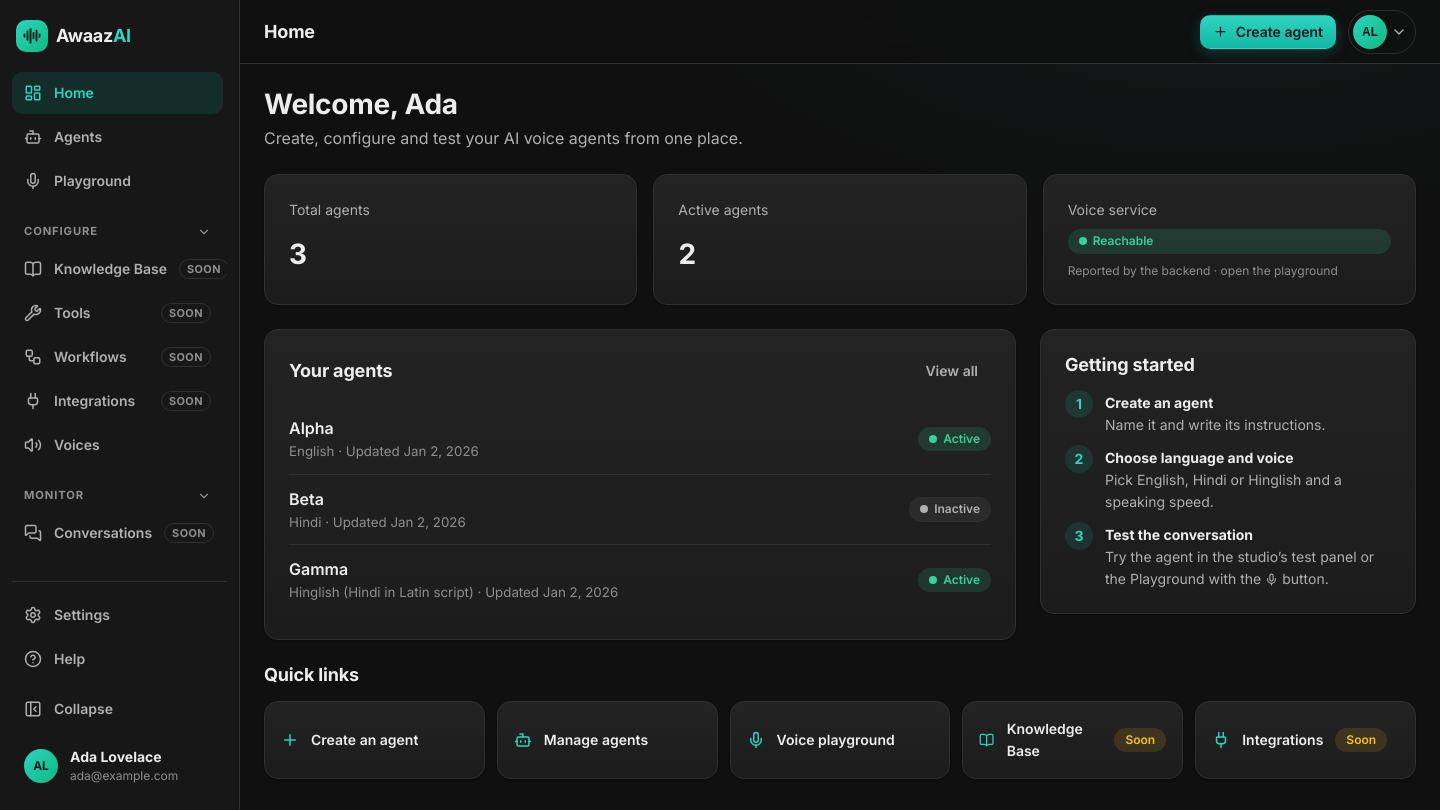
Test: application shell › groups the sidebar into Main, Configure, Monitor and Deploy and the groups expand and collapse
This screenshot has width=1440, height=810.
Expected: the button "Monitor" is shown, x1=12 y1=482 x2=223 y2=510
Expected: the link "Tools Soon" is shown, x1=24 y1=303 x2=211 y2=323
Click the button "Configure". click: (117,232)
box: x1=12 y1=218 x2=223 y2=246
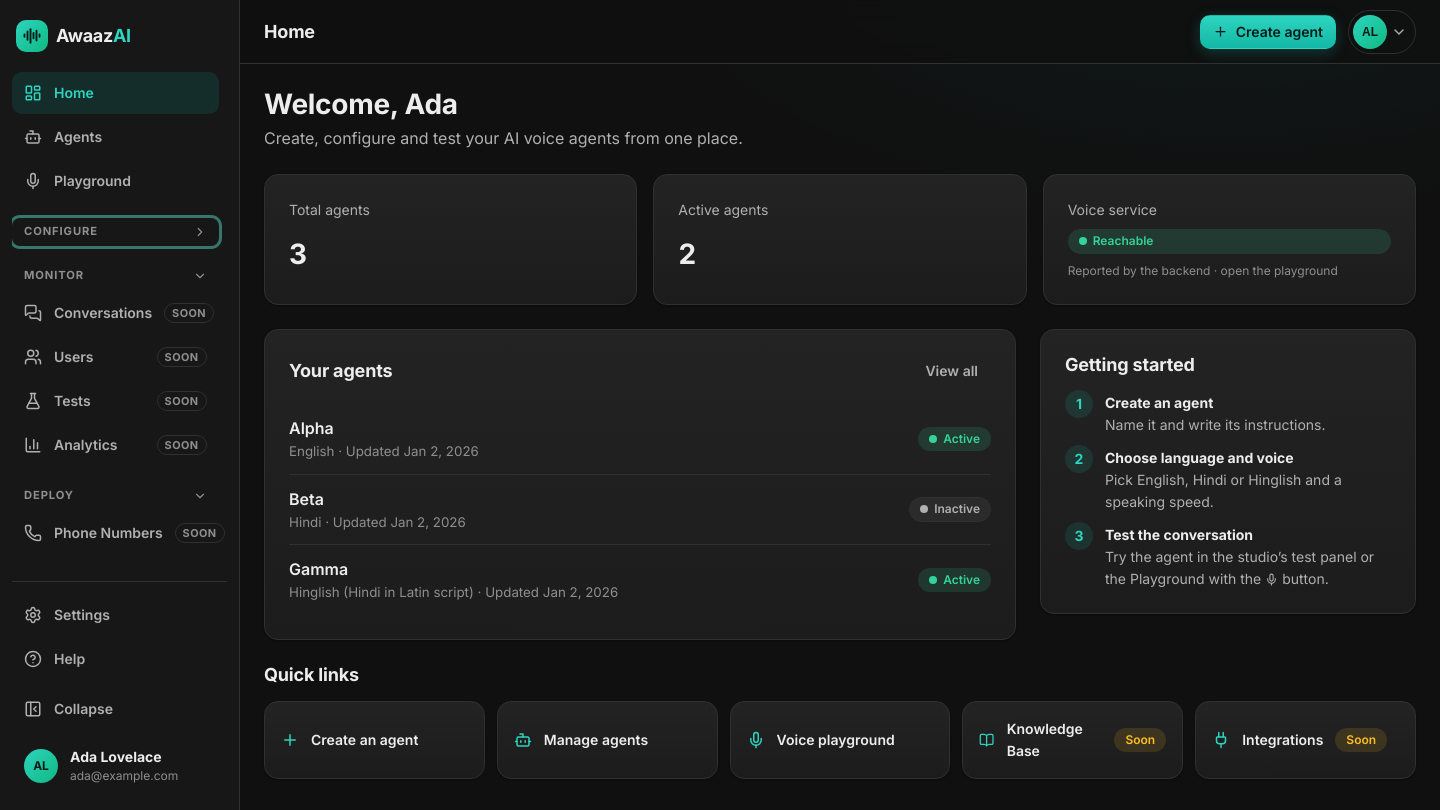
Expected: the button "Configure" is collapsed
Expected: the link "Tools" is gone
Click the button "Configure". click: (115,232)
box: x1=12 y1=218 x2=218 y2=246
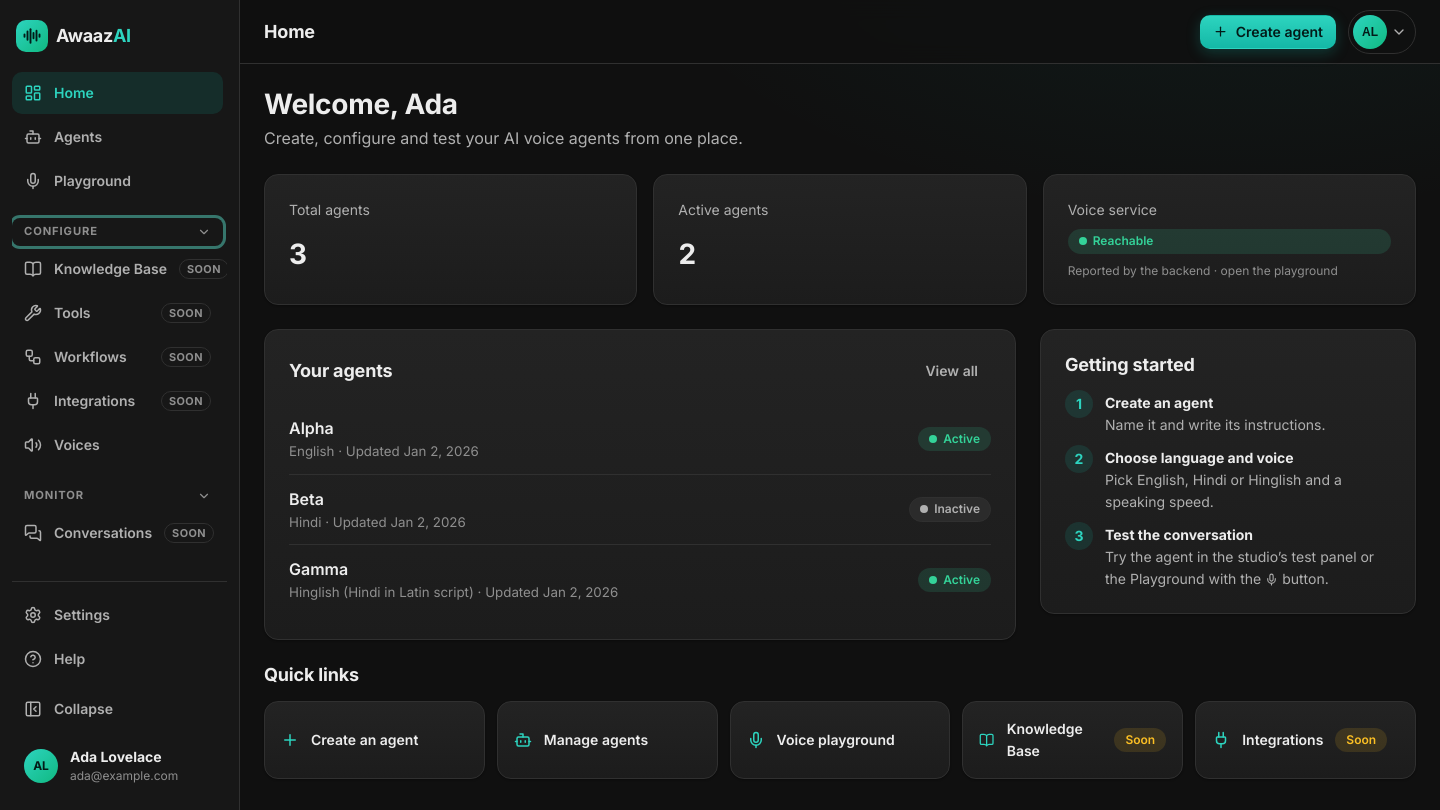
Expected: the link "Tools Soon" is shown, x1=24 y1=303 x2=211 y2=323
